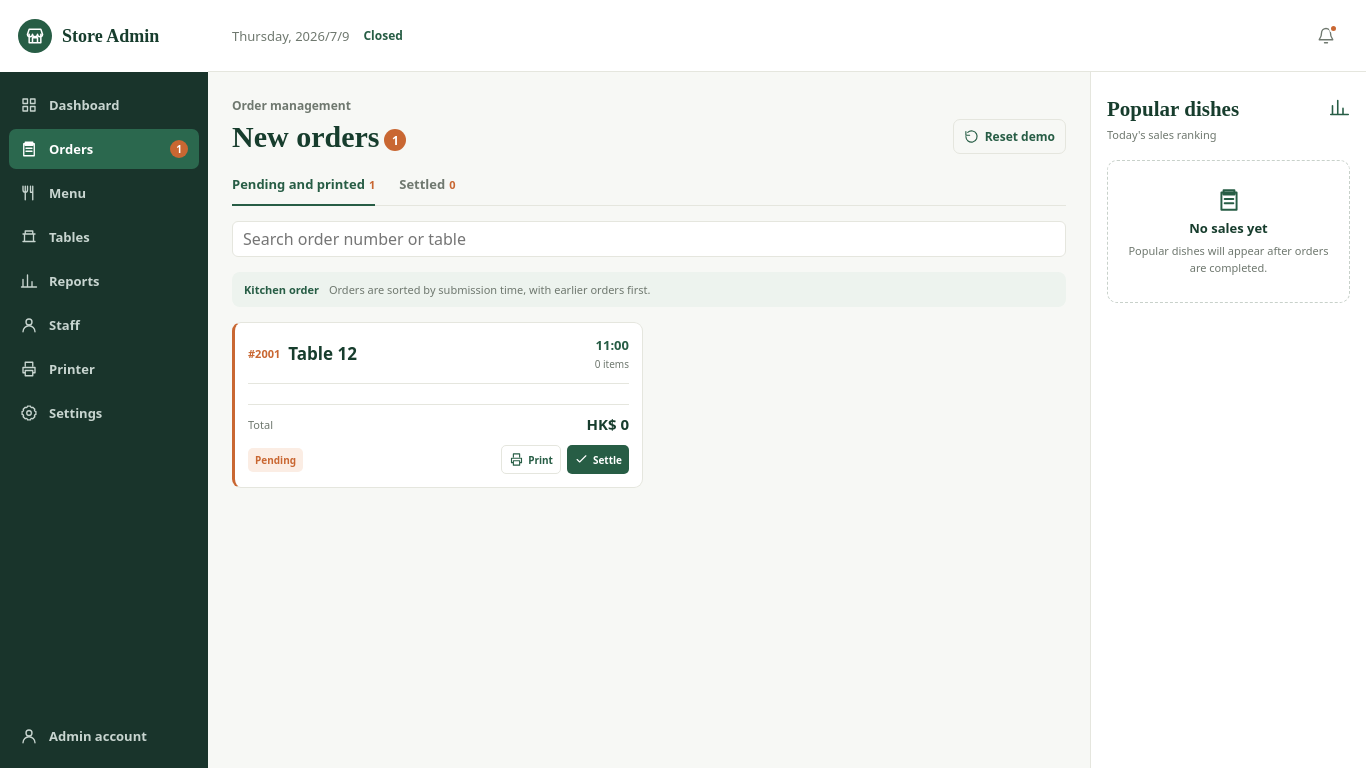
Test: AdminApp store integration › shows a no-results state and clears order filters
In the search field labelled "Search order number or table": {"x": 649, "y": 239} 232,221 -> 1066,257, type "missing"
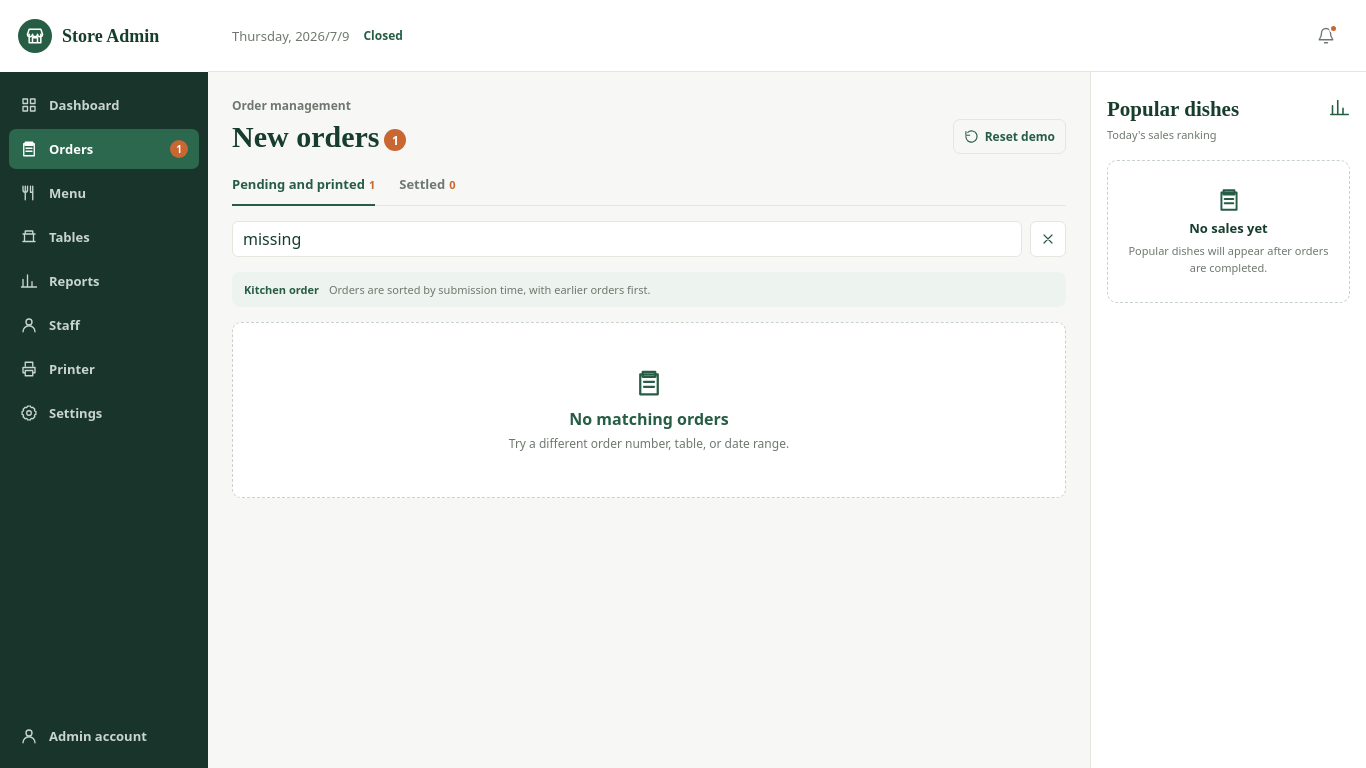
Result: the heading "No matching orders" is shown at 569,408 -> 729,430
Click the button named "Clear order filters": {"x": 1048, "y": 239} 1030,221 -> 1066,257
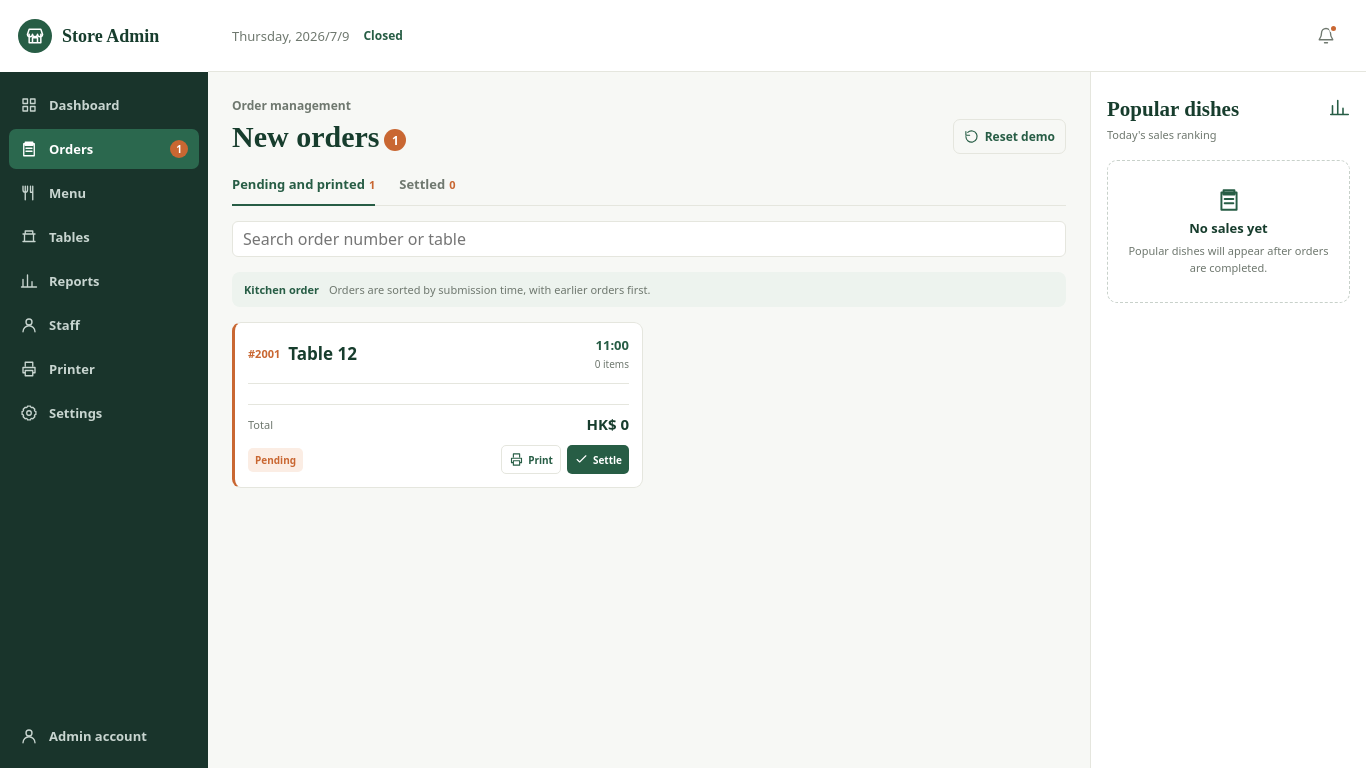
Result: the text "#2001" is shown at 248,346 -> 280,361
